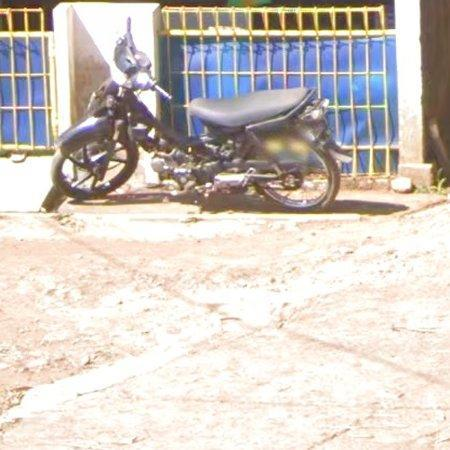motorcycles: (52, 19, 349, 211)
